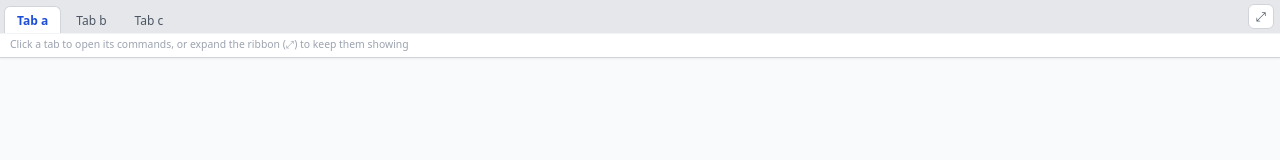
Test: Ribbon › collapsed (menu-bar mode) › shows no commands until a tab is clicked, then drops them down
What coordinates should you click on to do the following:
click the tab "Tab b"
I would click on:
 (91, 20)
Its box is [63,6,120,34].
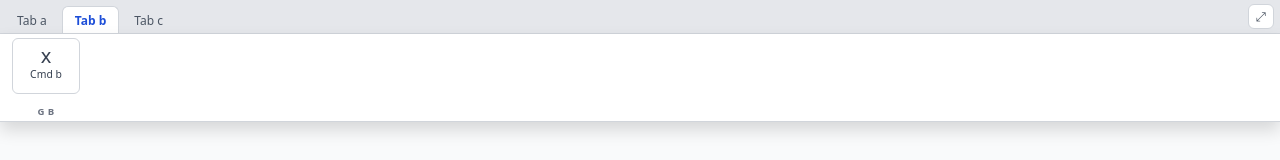
Check: the panel with class "rbn-body" shows "Cmd b", box [12,38,80,94]
